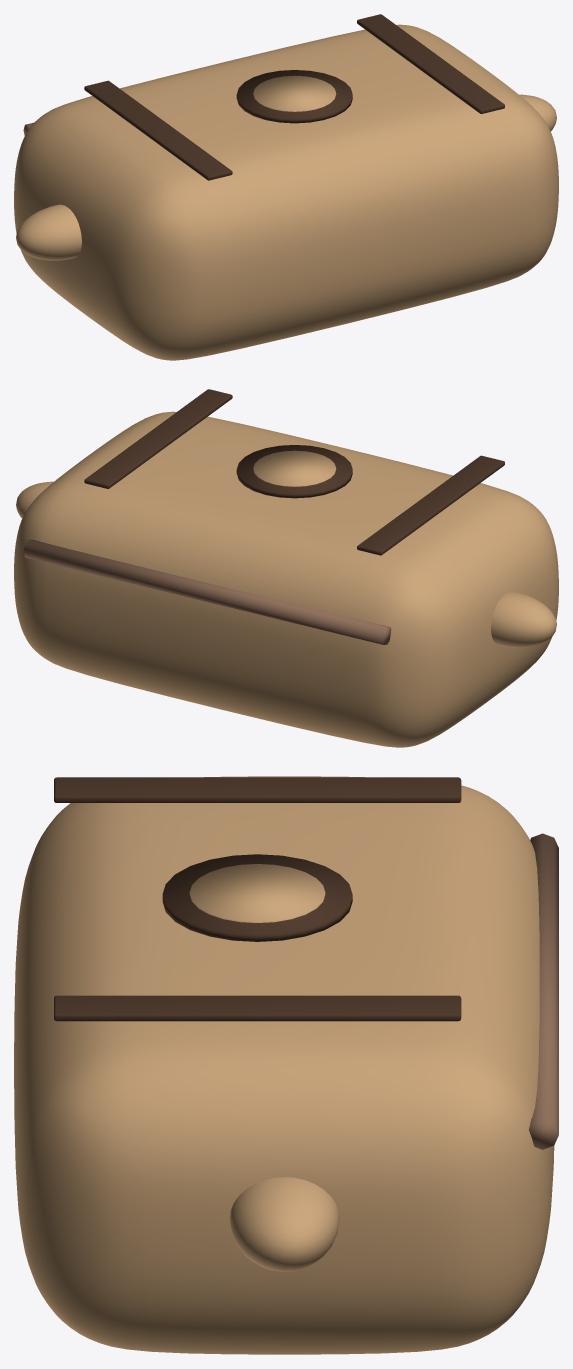
File: sac.glb
3 views of the same model, one above another, from view 1: azimuth 30°, elevation 25°; view 2: azimuth 150°, elevation 25°; view 3: azimuth 270°, elevation 25° (orthographic). The views are drawn at different scales.
Parts seen in each view (by area): view 1: panse, bande0, bande1, coin0, tampon, tampon_creux, coin1; view 2: panse, couture, bande1, bande0, coin0, tampon, tampon_creux, coin1; view 3: panse, bande1, bande0, coin1, tampon, couture, tampon_creux.
Part boxes in pixels (x1=…): panse: x1=14, y1=24, x2=558, y2=360; bande0: x1=84, y1=80, x2=232, y2=180; bande1: x1=357, y1=14, x2=504, y2=113; coin0: x1=16, y1=204, x2=81, y2=260; tampon: x1=236, y1=70, x2=352, y2=123; tampon_creux: x1=253, y1=75, x2=336, y2=111; coin1: x1=519, y1=94, x2=556, y2=131; panse: x1=14, y1=411, x2=558, y2=747; couture: x1=23, y1=539, x2=391, y2=644; bande1: x1=84, y1=389, x2=232, y2=488; bande0: x1=357, y1=455, x2=504, y2=555; coin0: x1=491, y1=591, x2=556, y2=647; tampon: x1=236, y1=445, x2=352, y2=498; tampon_creux: x1=253, y1=450, x2=336, y2=486; coin1: x1=16, y1=481, x2=53, y2=518; panse: x1=14, y1=776, x2=554, y2=1354; bande1: x1=54, y1=995, x2=461, y2=1021; bande0: x1=54, y1=777, x2=461, y2=802; coin1: x1=229, y1=1177, x2=339, y2=1271; tampon: x1=162, y1=854, x2=352, y2=941; couture: x1=529, y1=833, x2=558, y2=1149; tampon_creux: x1=189, y1=864, x2=325, y2=922.
Bounding box in the file's own units: 0.746 × 0.2699 × 0.4014.
